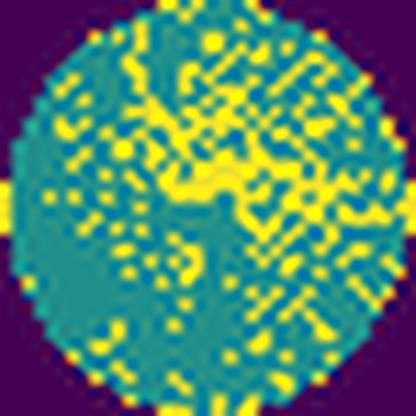Loc: (120, 79, 390, 245)
